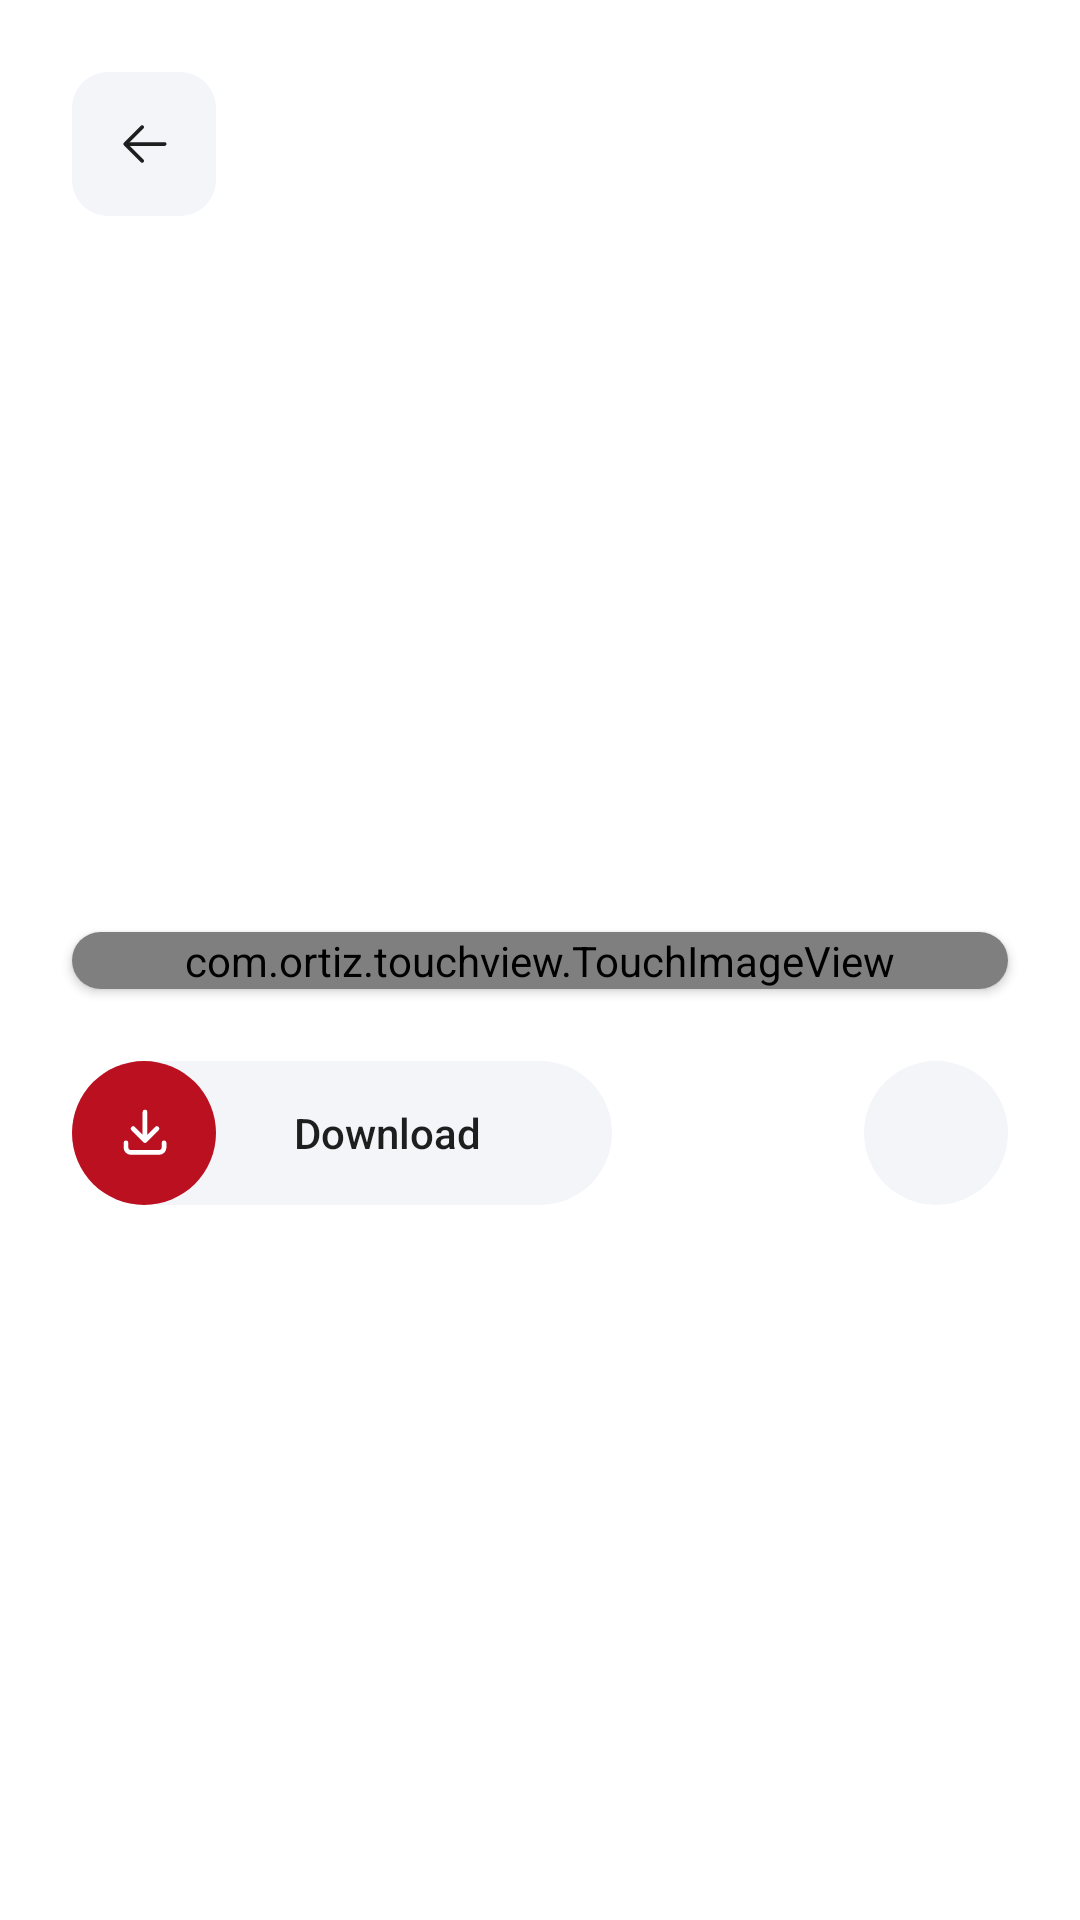

Where to tap for icons on this 1080px x 1920px app screen, as (x=x, y=y):
back: (x=144, y=144)
